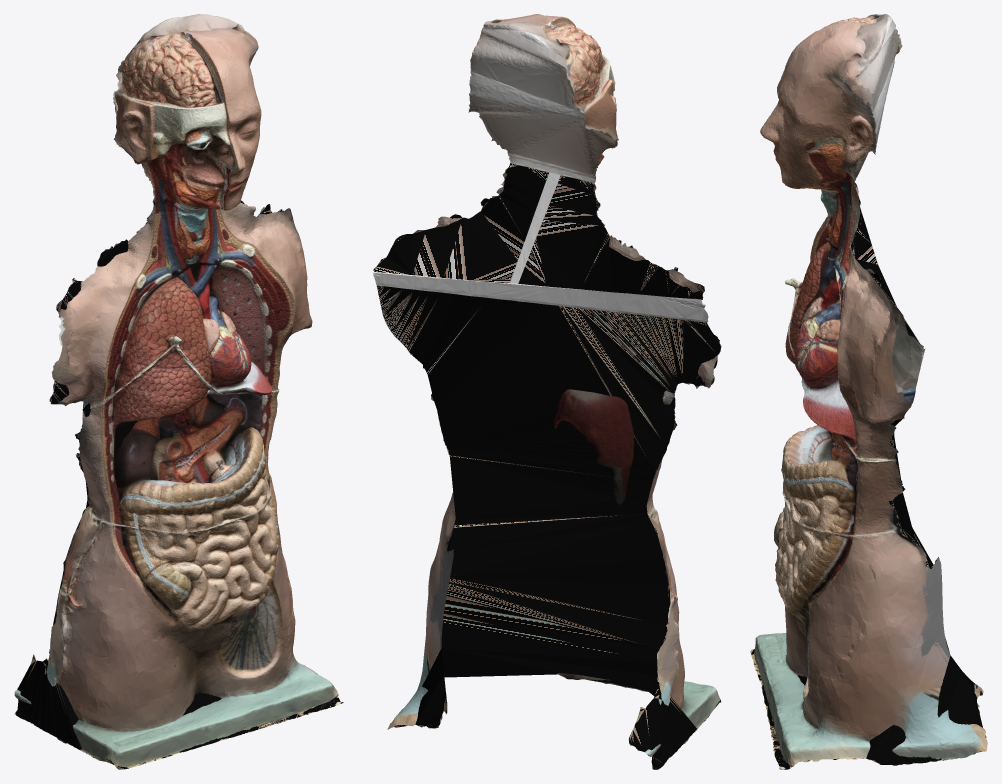
File: body.fbx
3 views of the same model, side by side, from view 1: azimuth 30°, elevation 25°; view 2: azimuth 150°, elevation 25°; view 3: azimuth 270°, elevation 25° (orthographic). The views are drawn at different scales.
Visible parts, largest first — view 1: Object.1; view 2: Object.1; view 3: Object.1.
Part boxes in pixels (x1=…): Object.1: x1=14, y1=14, x2=343, y2=769; Object.1: x1=372, y1=14, x2=721, y2=769; Object.1: x1=750, y1=14, x2=987, y2=769.
Bounding box in the file's own units: 2772 × 6175 × 1915.
